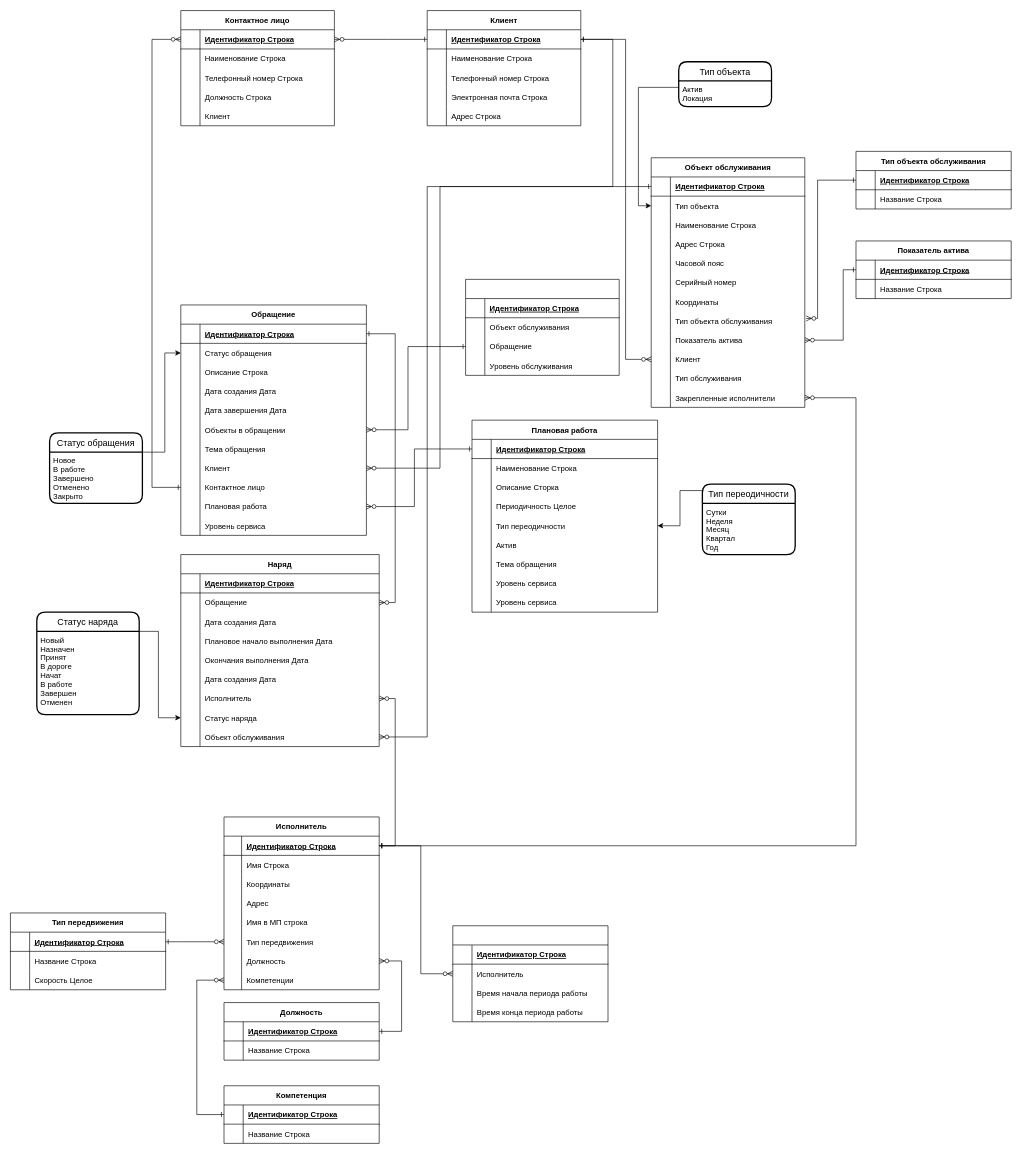
Some shapes in this 1021 by 1154 pixel diagram are drawn without their labels. Here are the shapes that lost their labels. From the top down, the box of each, then its label:
(465, 279, 619, 375): Объект обслуживания обращения
(452, 925, 608, 1022): Расписание исполнителя
